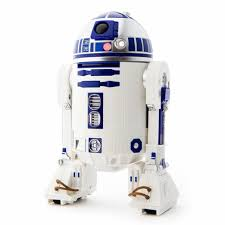r2d2: (44, 10, 179, 216)
